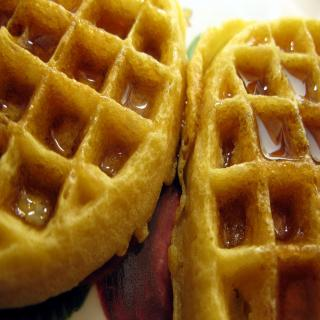Waffle: (0, 0, 189, 308), (167, 15, 319, 320)
